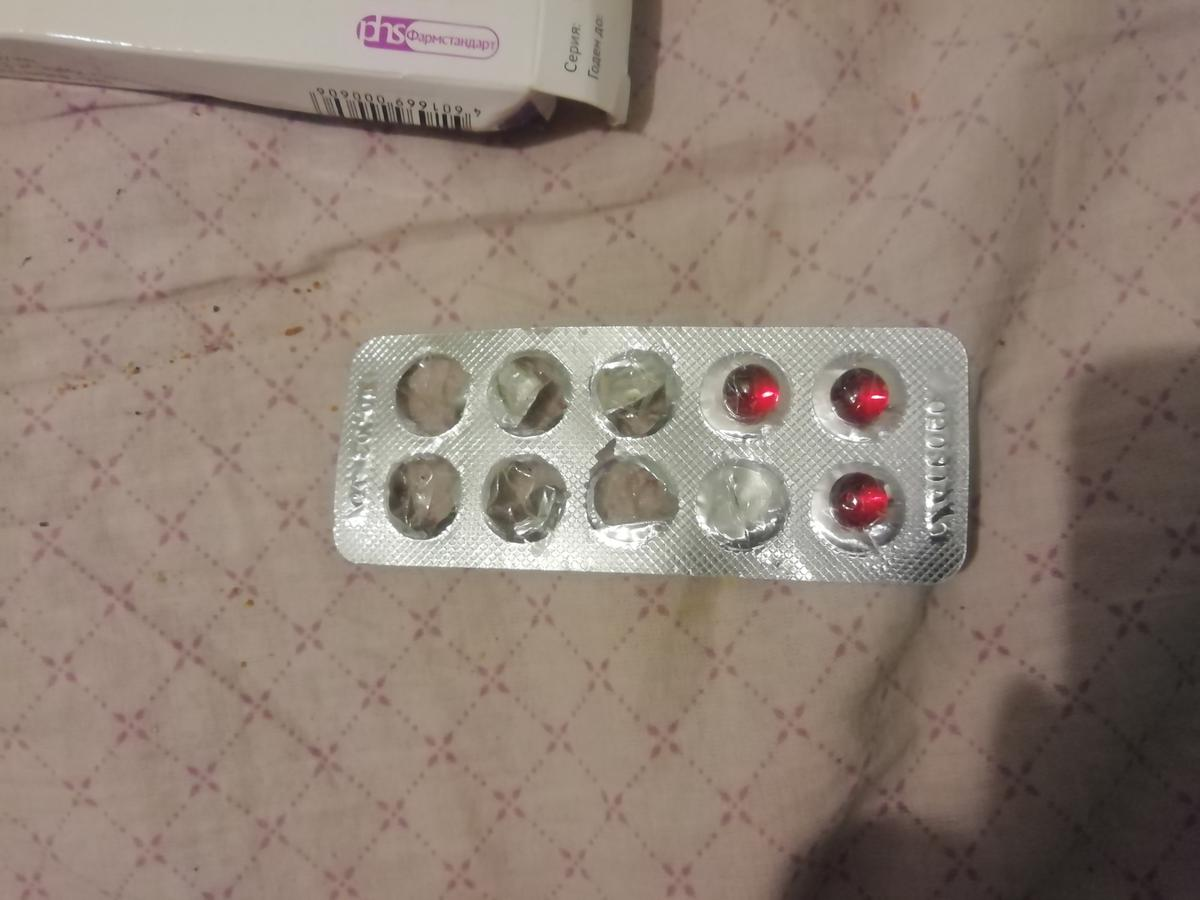tablet: (707, 354, 794, 447), (817, 354, 904, 447), (818, 466, 905, 559)
